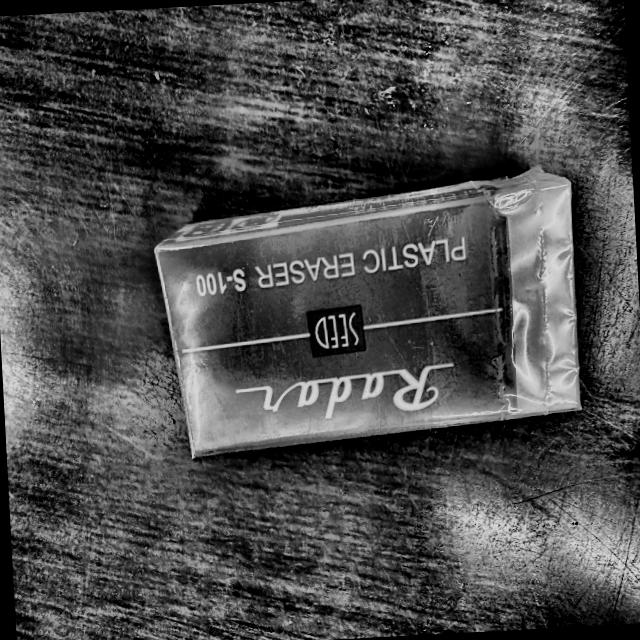eraser: (146, 148, 596, 464)
